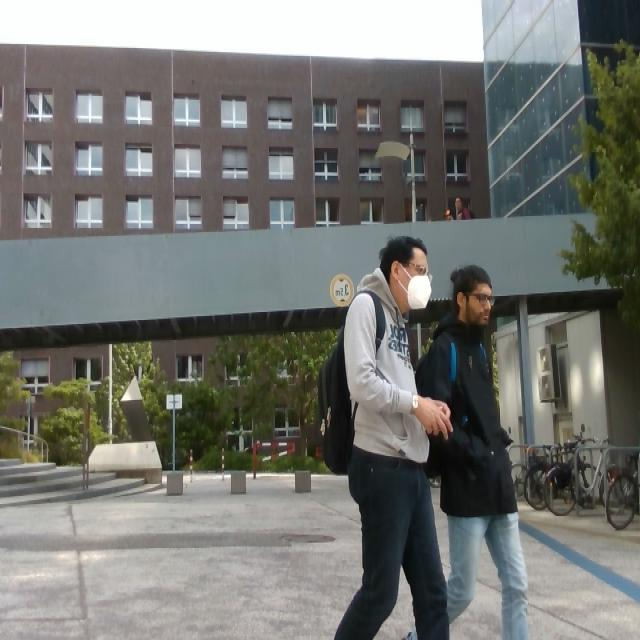face: (390, 248, 433, 310), (455, 277, 493, 328), (455, 198, 462, 210)
